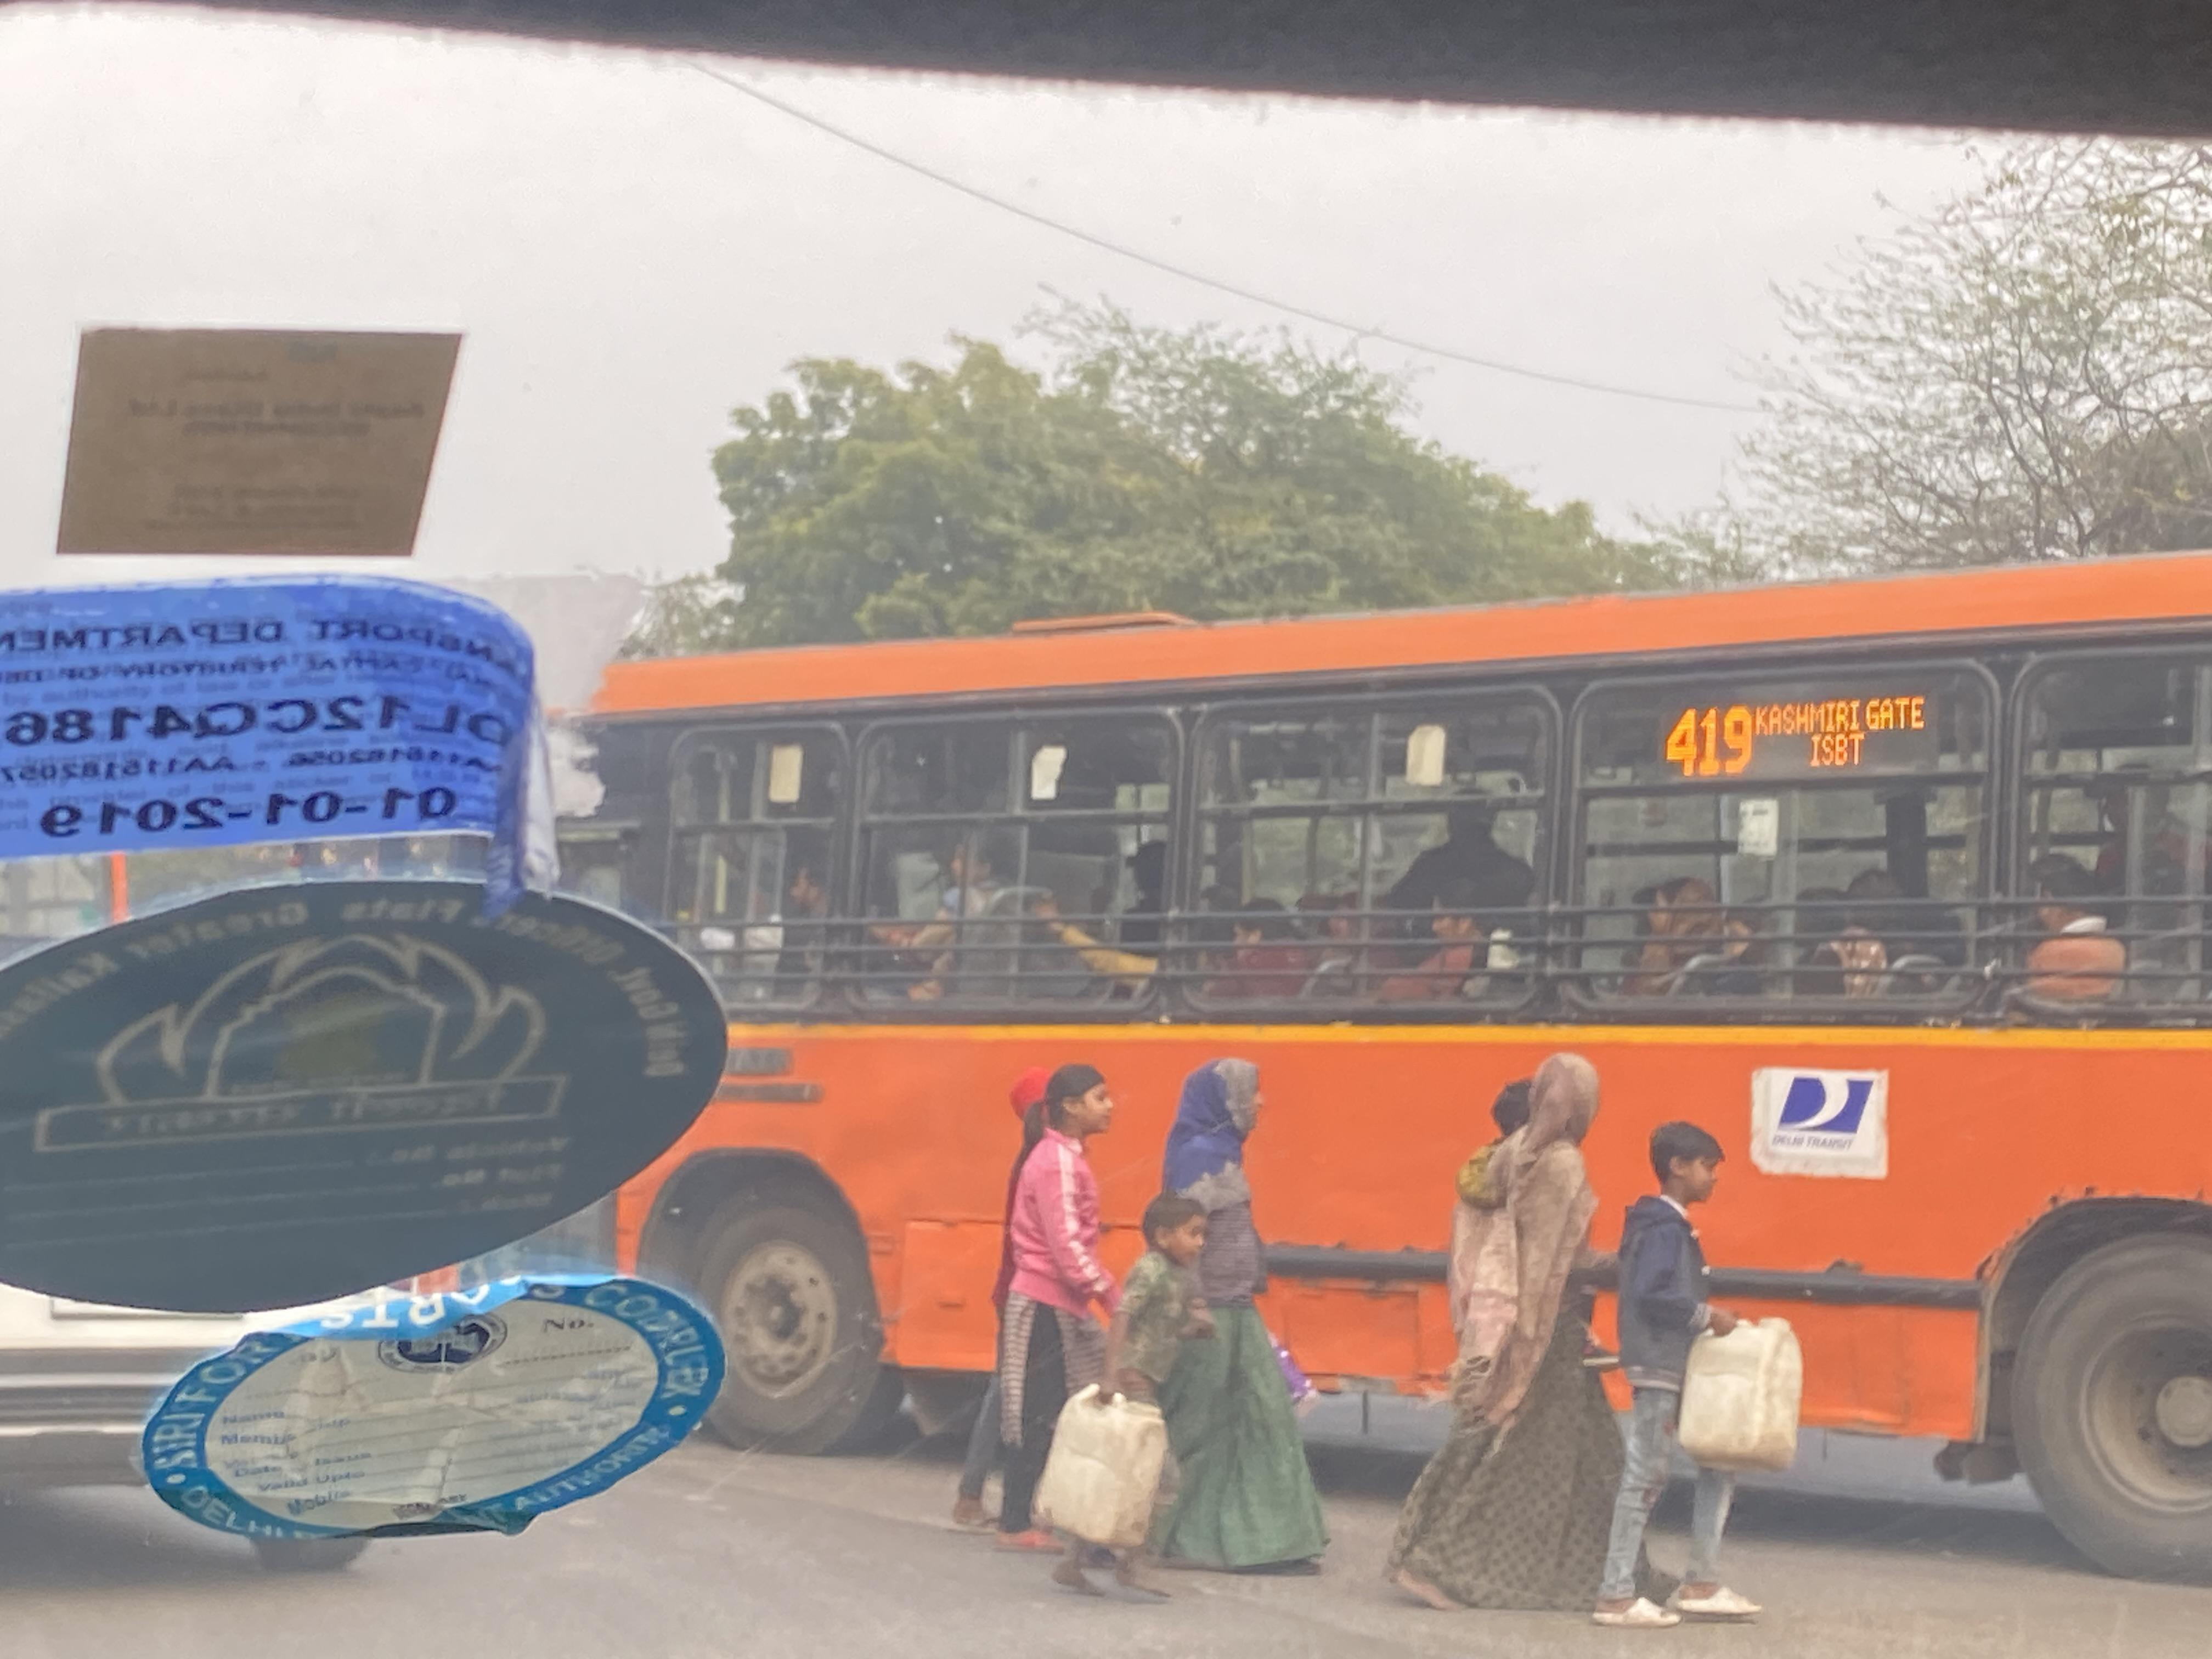Bus: (543, 526, 2212, 1432)
Display Board: (1613, 647, 2029, 789)
